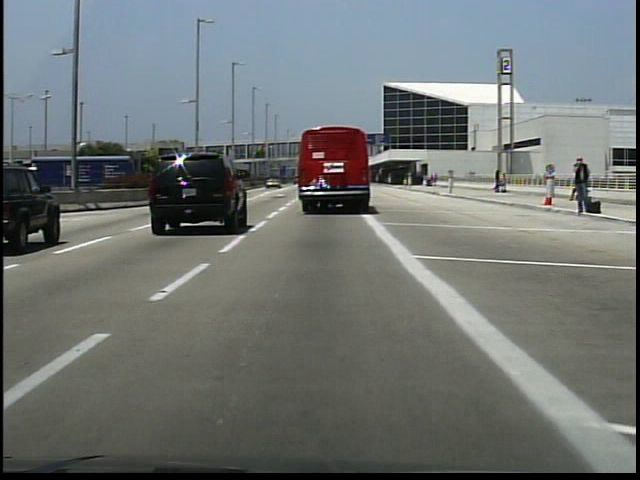person: (569, 153, 594, 219), (568, 173, 591, 206)
